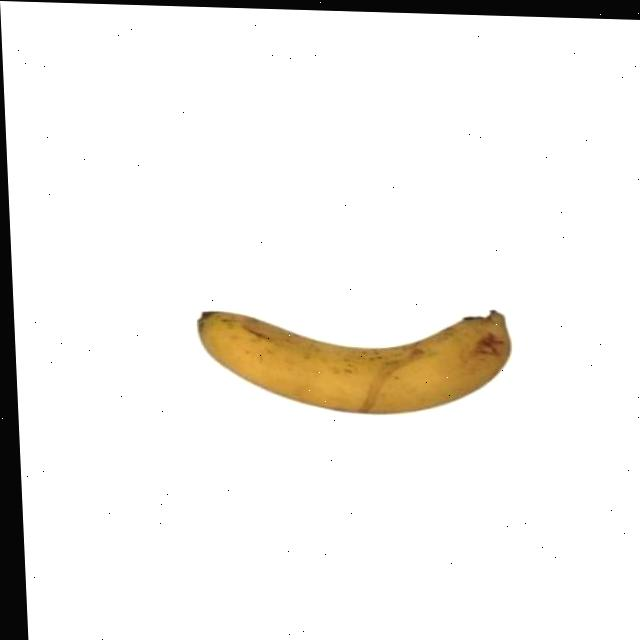banana: (199, 299, 518, 418)
